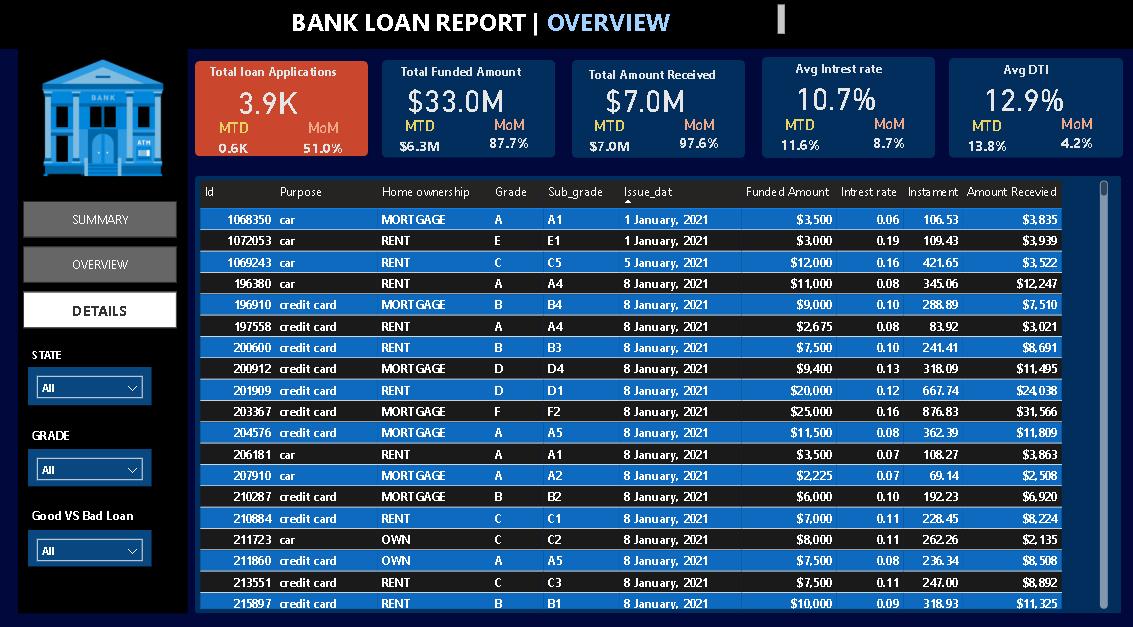

The dashboard page shown, as its layout file describes it:
{"tool":"powerbi","page":{"name":"DETAILS ","canvas":[1280,720],"ordinal":2},"visuals":[{"type":"shape","box":[20,14.4,191.1,675.6],"z":0},{"type":"shape","box":[856.2,64.4,194.8,113.5],"z":0,"group":"g4"},{"type":"shape","box":[1067.3,65.4,195.9,112.4],"z":0,"group":"g5"},{"type":"shape","box":[429.6,67.7,195,109.9],"z":0,"group":"g1"},{"type":"shape","box":[642.9,67.8,194.7,110.2],"z":0,"group":"g3"},{"type":"card","fields":{"Values":["Table.Avg Inttrest rate"]},"box":[872.4,82.9,134.9,52.2],"z":1000,"group":"g4"},{"type":"card","fields":{"Values":["Table.Avg DTI"]},"box":[1083.6,83.8,135.6,51.7],"z":1000,"group":"g5"},{"type":"card","fields":{"Values":["Table.Total Funded Amount"]},"box":[445.8,85.6,135,50.5],"z":1000,"group":"g1"},{"type":"card","fields":{"Values":["Table.MTD_Total_amount_recevied"]},"box":[659.1,85.8,134.8,50.7],"z":1000,"group":"g3"},{"type":"shape","box":[218.9,197.8,1042.2,492.2],"z":1000},{"type":"shape","box":[0,0,1280,55.3],"z":2000},{"type":"textbox","box":[863.4,63.3,164.1,33.7],"z":2000,"group":"g4"},{"type":"textbox","box":[1074.6,64.4,165,33.4],"z":2000,"group":"g5"},{"type":"textbox","box":[436.8,66.7,164.2,32.6],"z":2000,"group":"g1"},{"type":"textbox","box":[651.4,69.9,165.9,29.8],"z":2000,"group":"g3"},{"type":"textbox","box":[322.6,0,565.5,45],"z":3000},{"type":"shape","box":[218.9,69.3,194.6,107.3],"z":3000,"group":"g2"},{"type":"card","title":"MTD","fields":{"Values":["Table.MTD_avg_intrestrate"]},"box":[852.2,130.9,93.7,43.5],"z":3000,"group":"g4"},{"type":"card","title":"MTD","fields":{"Values":["Table.MTD AVG DTI"]},"box":[1063.3,131.4,94.2,43],"z":3000,"group":"g5"},{"type":"card","title":"MTD","fields":{"Values":["Table.Total_Funded_Amount"]},"box":[425.6,132.2,93.8,42.1],"z":3000,"group":"g1"},{"type":"card","title":"MTD","fields":{"Values":["Table.MTD_Total_amount_recevied"]},"box":[638.9,132.4,93.6,42.2],"z":3000,"group":"g3"},{"type":"group","id":"g1","title":"Group 1","box":[425.6,66.7,200,112.2],"z":4000},{"type":"card","fields":{"Values":["Table.Total_Application"]},"box":[233.5,87.9,135,49.5],"z":4000,"group":"g2"},{"type":"card","title":"MoM","fields":{"Values":["Table.Mom AVg int rate"]},"box":[951.1,129.6,97.4,47.1],"z":4000,"group":"g4"},{"type":"card","title":"MoM","fields":{"Values":["Table.Mom AVg DTI"]},"box":[1162.8,130,97.9,46.6],"z":4000,"group":"g5"},{"type":"card","title":"MoM","fields":{"Values":["Table.Mom Total funded Amount"]},"box":[524.6,130.8,97.5,45.6],"z":4000,"group":"g1"},{"type":"card","title":"MoM","fields":{"Values":["Table.Mom Total Amount recevied"]},"box":[737.8,131.1,97.4,45.7],"z":4000,"group":"g3"},{"type":"group","id":"g2","title":"Group 2","box":[218.9,66.7,194.4,111.1],"z":5000},{"type":"textbox","box":[224.5,66.7,165.6,27.5],"z":5000,"group":"g2"},{"type":"group","id":"g3","title":"Group 1","box":[638.9,67.8,200,110],"z":6000},{"type":"card","title":"MTD","fields":{"Values":["Table.MTD Loan_ application"]},"box":[219,134.6,87.5,42.4],"z":6000,"group":"g2"},{"type":"group","id":"g4","title":"Group 1","box":[852.2,63.3,198.9,114.4],"z":7000},{"type":"card","title":"MoM","fields":{"Values":["Table.MoM loan Application"]},"box":[316.5,134.6,92.5,42.4],"z":7000,"group":"g2"},{"type":"group","id":"g5","title":"Group 1","box":[1063.3,64.4,200,113.3],"z":8000},{"type":"slicer","fields":{"Values":["Bank_loan_data.address_state"]},"box":[31.1,413.3,138.9,43.3],"z":9000},{"type":"textbox","box":[31.1,384.4,81.1,28.9],"z":10000},{"type":"slicer","fields":{"Values":["Bank_loan_data.grade"]},"box":[31.1,505.6,138.9,42.2],"z":11000},{"type":"textbox","box":[31.1,475.6,74.4,30],"z":12000},{"type":"slicer","fields":{"Values":["Bank_loan_data.Good Loan vs Bad Loan"]},"box":[31.1,596.7,138.9,41.1],"z":13000},{"type":"textbox","box":[31.1,565.6,140,31.1],"z":14000},{"type":"tableEx","fields":{"Values":["Bank_loan_data.id","Bank_loan_data.purpose","Bank_loan_data.home_ownership","Bank_loan_data.grade","Bank_loan_data.sub_grade","Bank_loan_data.issue_date","MEASURE.Total Funded Amount","Sum(Bank_loan_data.int_rate)","Sum(Bank_loan_data.installment)","MEASURE.Total Amount Recevied"]},"box":[218.9,197.8,1032.2,492.2],"z":15000},{"type":"pageNavigator","box":[25.6,226.7,173.3,143.3],"z":16000},{"type":"image","box":[29.2,55.1,162,160.9],"z":16001}]}

Visuals, with their boxes in screenshot pixels (x1, y1, x2, y2), scaled from the page's 1280x720 canvas onto the 1133x627 screenshot:
shape: locate(18, 13, 187, 601)
shape: locate(758, 56, 930, 155)
shape: locate(945, 57, 1118, 155)
shape: locate(380, 59, 553, 155)
shape: locate(569, 59, 741, 155)
card - Table.Avg Inttrest rate: locate(772, 72, 892, 118)
card - Table.Avg DTI: locate(959, 73, 1079, 118)
card - Table.Total Funded Amount: locate(395, 75, 514, 119)
card - Table.MTD_Total_amount_recevied: locate(583, 75, 703, 119)
shape: locate(194, 172, 1116, 601)
shape: locate(0, 0, 1132, 48)
textbox: locate(764, 55, 909, 84)
textbox: locate(951, 56, 1097, 85)
textbox: locate(387, 58, 532, 86)
textbox: locate(577, 61, 723, 87)
textbox: locate(286, 0, 786, 39)
shape: locate(194, 60, 366, 154)
"MTD" card: locate(754, 114, 837, 152)
"MTD" card: locate(941, 114, 1025, 152)
"MTD" card: locate(377, 115, 460, 152)
"MTD" card: locate(566, 115, 648, 152)
"Group 1" group: locate(377, 58, 554, 156)
card - Table.Total_Application: locate(207, 77, 326, 120)
"MoM" card: locate(842, 113, 928, 154)
"MoM" card: locate(1029, 113, 1116, 154)
"MoM" card: locate(464, 114, 551, 154)
"MoM" card: locate(653, 114, 739, 154)
"Group 2" group: locate(194, 58, 366, 155)
textbox: locate(199, 58, 345, 82)
"Group 1" group: locate(566, 59, 743, 155)
"MTD" card: locate(194, 117, 271, 154)
"Group 1" group: locate(754, 55, 930, 155)
"MoM" card: locate(280, 117, 362, 154)
"Group 1" group: locate(941, 56, 1118, 155)
slicer - Bank_loan_data.address_state: locate(28, 360, 150, 398)
textbox: locate(28, 335, 99, 360)
slicer - Bank_loan_data.grade: locate(28, 440, 150, 477)
textbox: locate(28, 414, 93, 440)
slicer - Bank_loan_data.Good Loan vs Bad Loan: locate(28, 520, 150, 555)
textbox: locate(28, 493, 151, 520)
tableEx - Bank_loan_data.id x Bank_loan_data.purpose: locate(194, 172, 1107, 601)
pageNavigator: locate(23, 197, 176, 322)
image: locate(26, 48, 169, 188)
